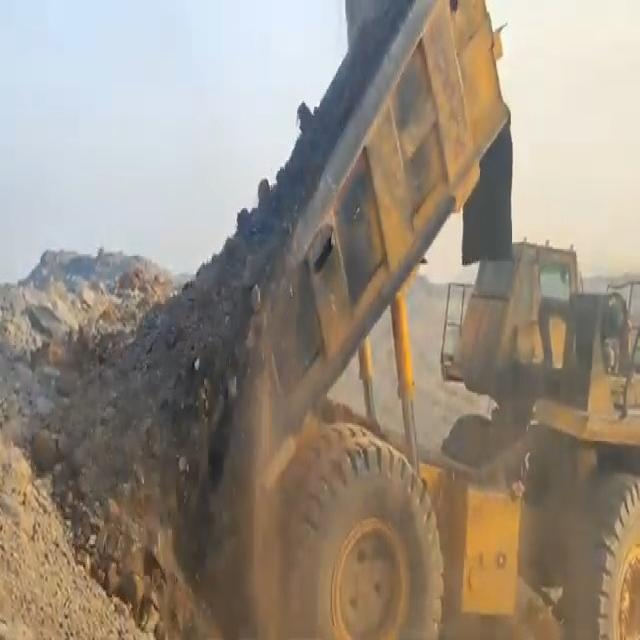dump_truck: (257, 4, 640, 640)
